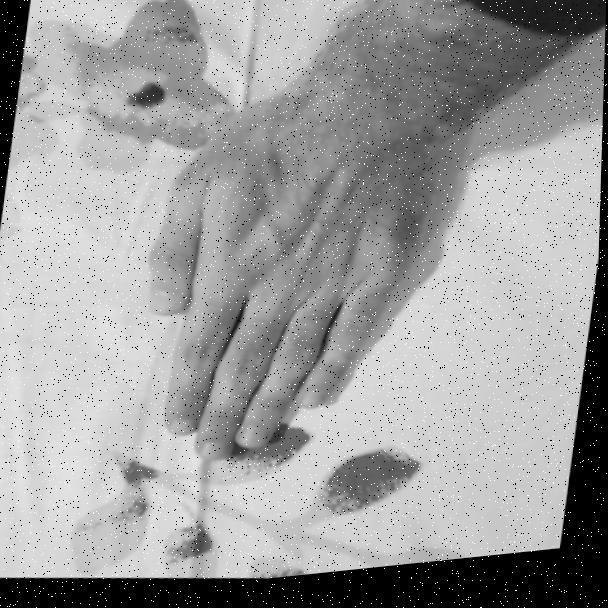five: (127, 65, 455, 494)
